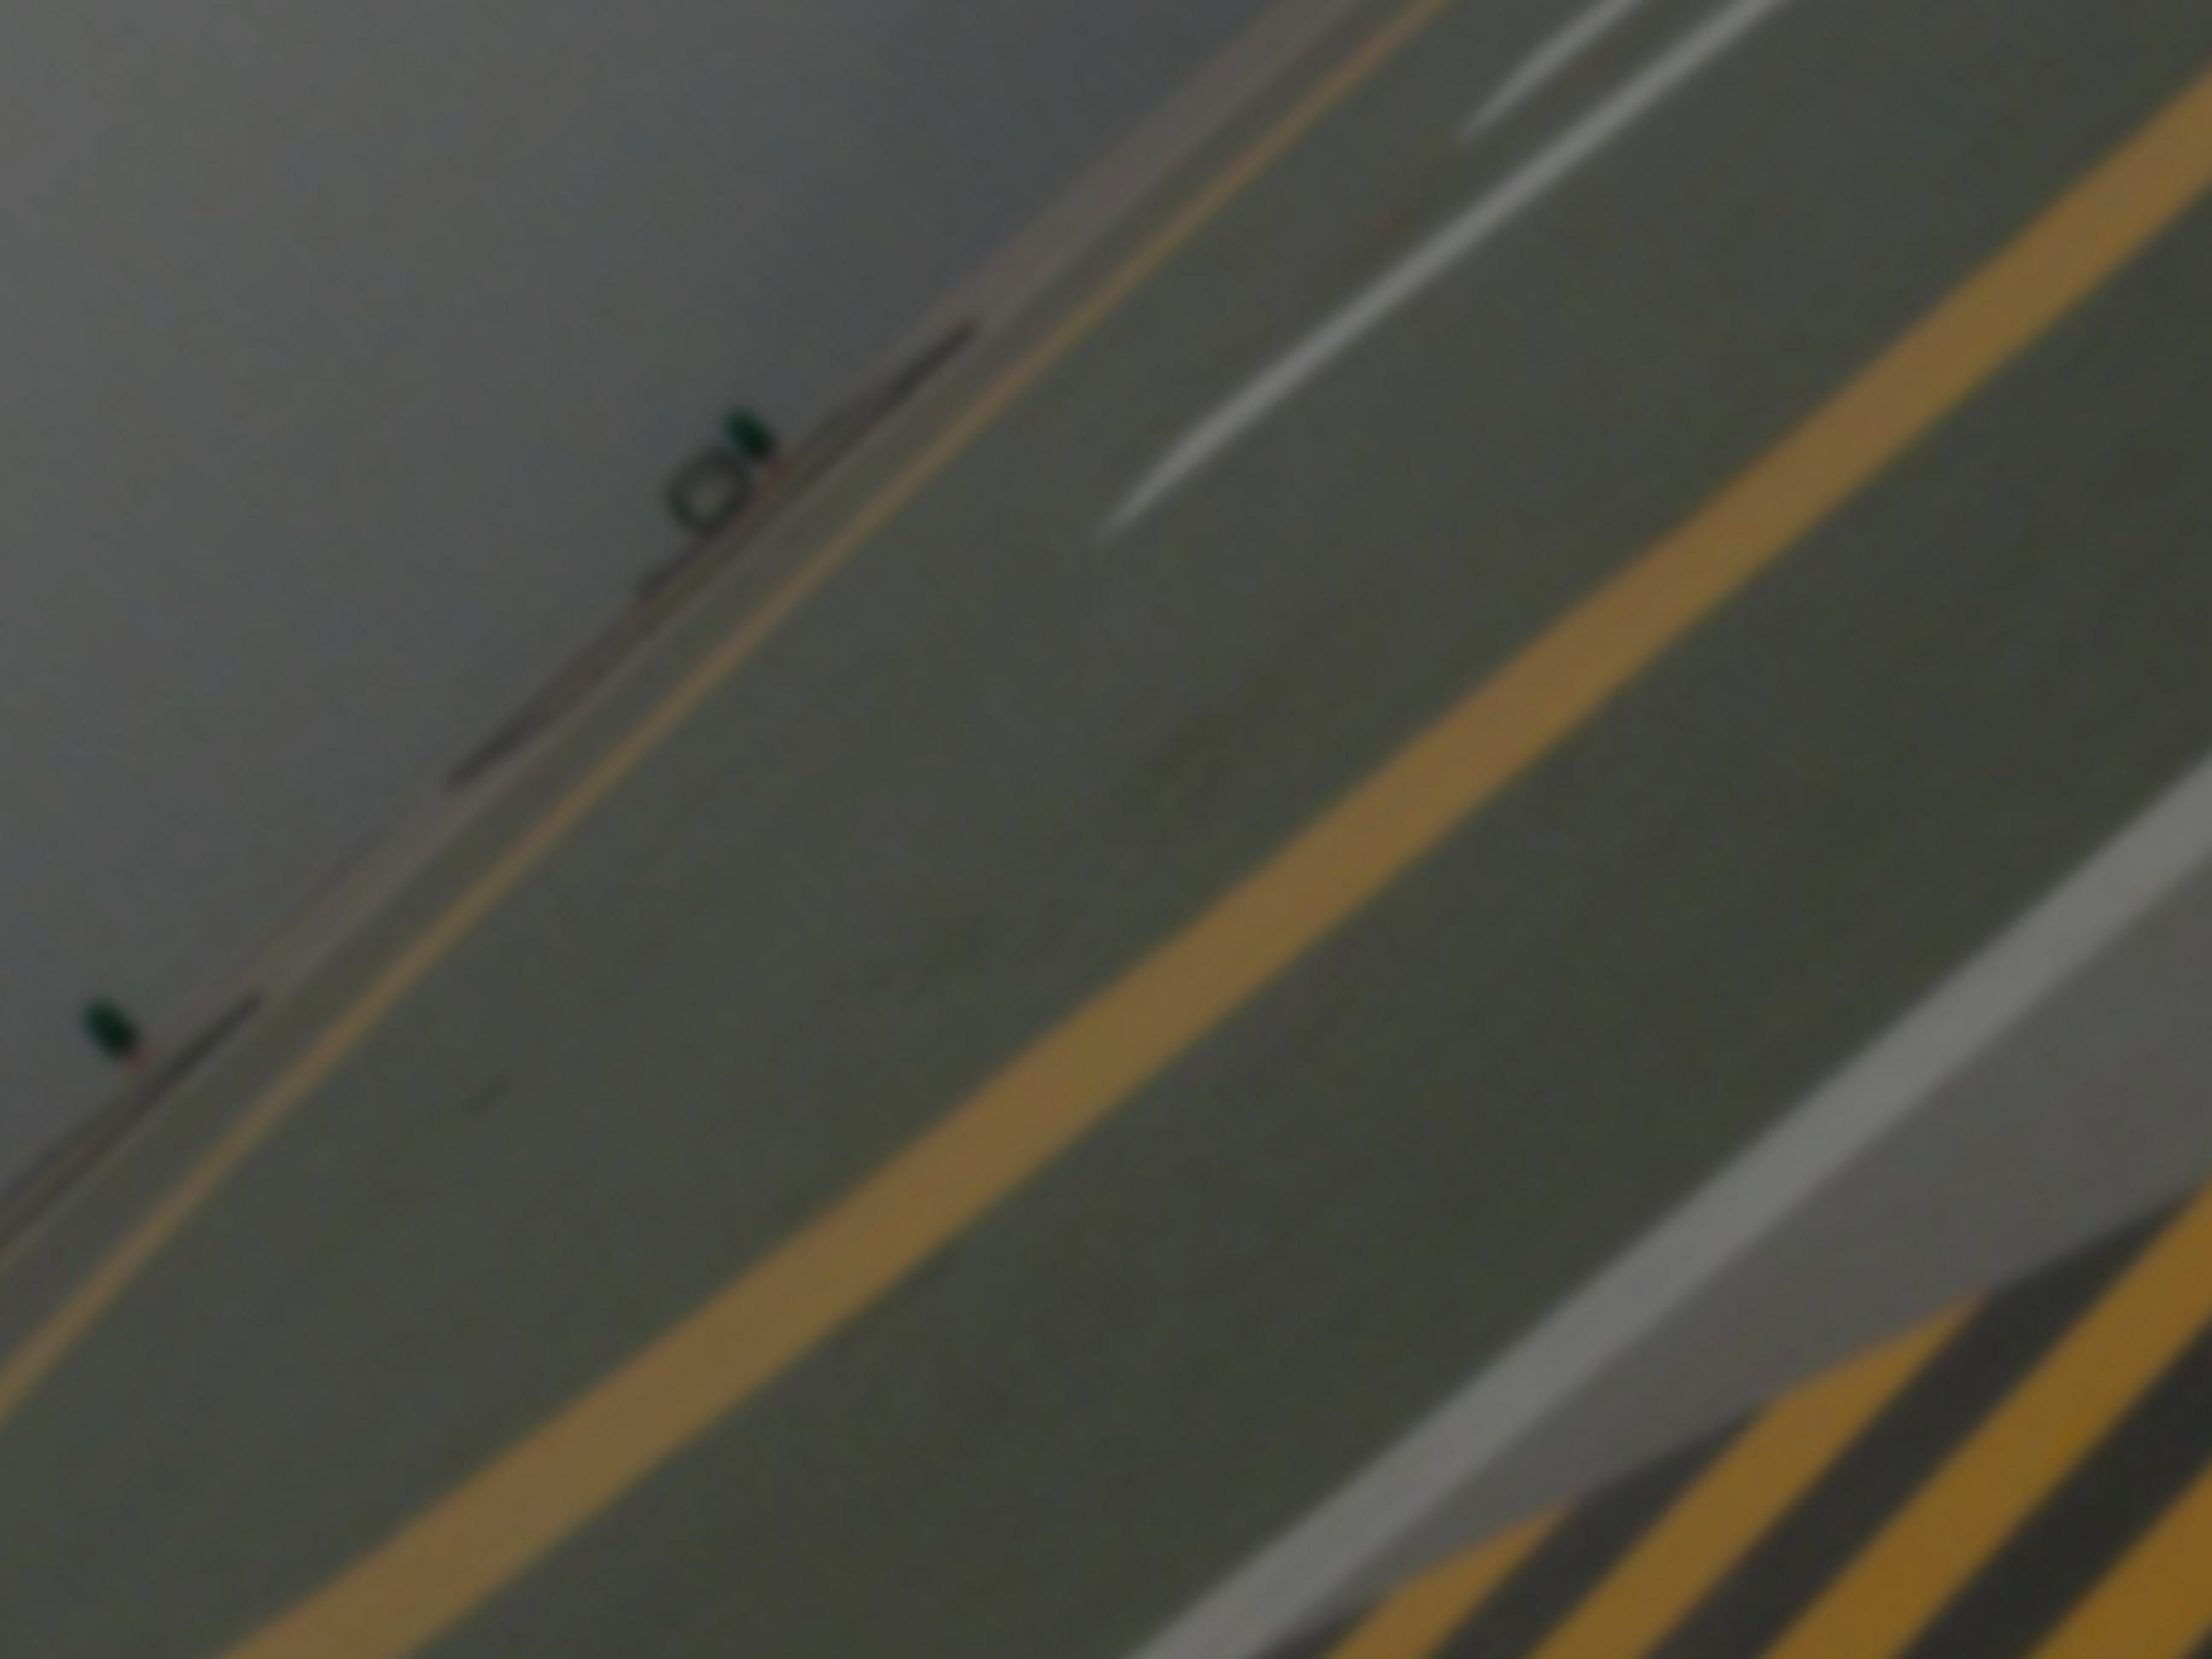Apron: (23, 10, 2212, 1659)
